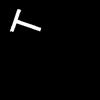half_double_crochet: (10, 9, 40, 30)
